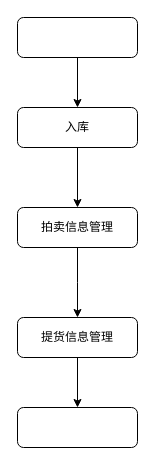
The diagram is 155 pixels wide and 465 high, and some of its shapes have lost their labels. Here are the shapes that lost their labels. From the top down, the centre of each, then its label:
the point at 77,37: 收花、定级
the point at 77,427: 客户评价或投诉信息管理
